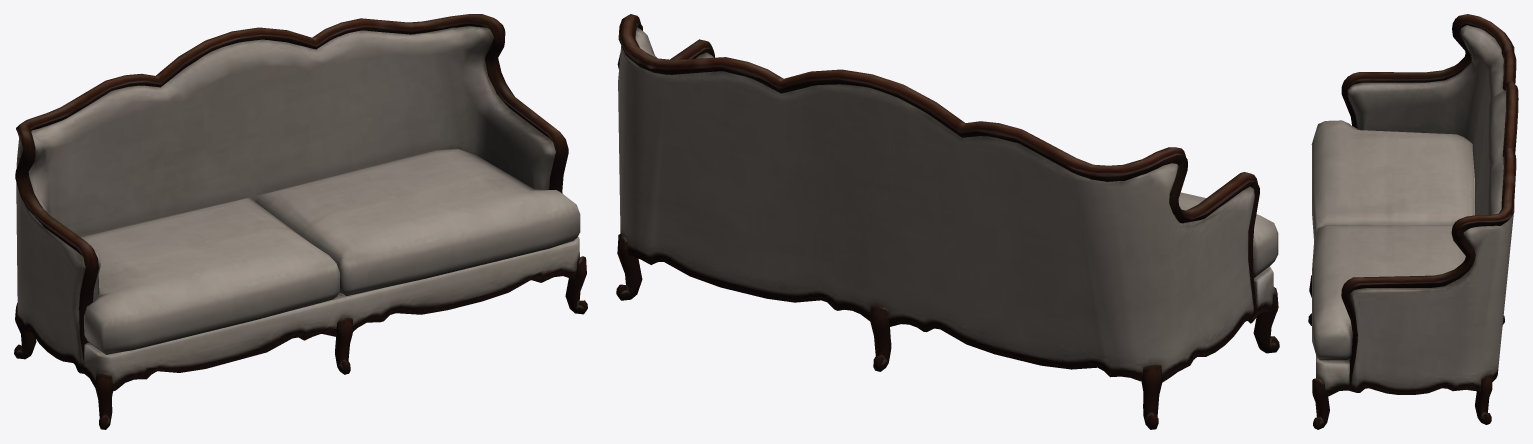
File: Sofa_01.glb
The picture shows the model from 3 angles, left to right: view 1: azimuth 30°, elevation 25°; view 2: azimuth 150°, elevation 25°; view 3: azimuth 270°, elevation 25°; orthographic projection. The views are drawn at different scales.
Visible parts, largest first — view 1: Sofa_01; view 2: Sofa_01; view 3: Sofa_01.
Part boxes in pixels (x1,y1,x2,y2): Sofa_01: (14, 14, 587, 429); Sofa_01: (616, 14, 1279, 429); Sofa_01: (1308, 14, 1518, 429).
Size of the model in its own units: 1.57 by 0.7954 by 0.658.
1 material, 1 textured.
